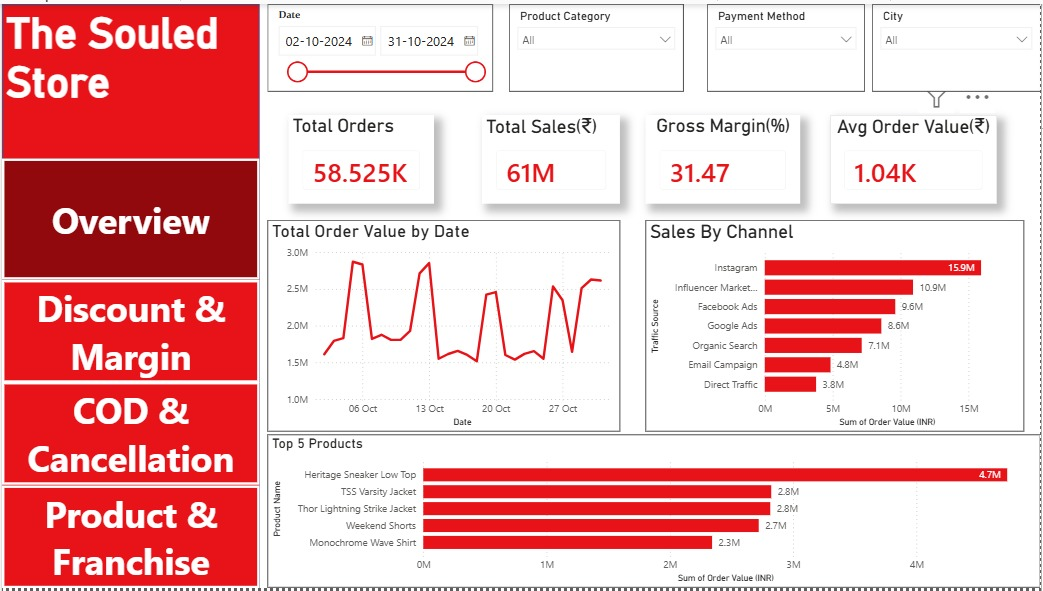

The page's visual inventory and layout, read from the dashboard file:
{"tool":"powerbi","page":{"name":"OverView","canvas":[1280,720],"ordinal":0},"visuals":[{"type":"group","id":"g1","title":"Group 1","box":[0,0,317.5,720],"z":0},{"type":"shape","box":[0,0,317.5,720],"z":0,"group":"g1"},{"type":"slicer","fields":{"Values":["SOULED_STORE.Date"]},"box":[326.9,0,277.8,107.7],"z":1000},{"type":"actionButton","box":[0,593.4,317.5,126.6],"z":1000,"group":"g1"},{"type":"slicer","fields":{"Values":["SOULED_STORE.Product Category"]},"box":[625.5,0,215.4,107.7],"z":2000},{"type":"actionButton","box":[0,466.8,317.5,126.6],"z":2000,"group":"g1"},{"type":"slicer","fields":{"Values":["SOULED_STORE.Payment Method"]},"box":[869.3,0,194.6,107.7],"z":3000},{"type":"actionButton","box":[0,340.2,317.5,126.6],"z":3000,"group":"g1"},{"type":"cardVisual","title":"Total Sales(₹)","fields":{"Data":["Sum(SOULED_STORE.Order Value (INR))"]},"box":[591.5,136.1,170.1,109.6],"z":4000},{"type":"actionButton","box":[0,190.9,317.5,149.3],"z":4000,"group":"g1"},{"type":"textbox","box":[0,0,317.5,213.5],"z":5000,"group":"g1"},{"type":"cardVisual","title":"Total Orders","fields":{"Data":["CountNonNull(SOULED_STORE.Order ID)"]},"box":[353.4,136.1,179.5,109.6],"z":5000},{"type":"cardVisual","title":"Gross Margin(%)","fields":{"Data":["Avg(SOULED_STORE.Estimated Profit Margin (%))"]},"box":[793.7,136.1,190.9,109.6],"z":6000},{"type":"cardVisual","title":"Avg Order Value(₹)","fields":{"Data":["SOULED_STORE.AOV"]},"box":[1020.6,136.8,205.2,109.1],"z":7000},{"type":"lineChart","title":"Total Order Value by Date","fields":{"Y":["Sum(SOULED_STORE.Order Value (INR))"],"Category":["SOULED_STORE.Date"]},"box":[326.9,266.5,434.6,260.8],"z":8000},{"type":"barChart","title":"Sales By Channel","fields":{"Category":["SOULED_STORE.Traffic Source"],"Y":["Sum(SOULED_STORE.Order Value (INR))"]},"box":[793.7,266.5,466.8,260.8],"z":9000},{"type":"clusteredBarChart","title":"Top 5 Products","fields":{"Category":["SOULED_STORE.Product Name"],"Y":["Sum(SOULED_STORE.Order Value (INR))"]},"box":[326.9,531,952.4,189],"z":10000},{"type":"slicer","fields":{"Values":["SOULED_STORE.City"]},"box":[1071.5,0,207.9,107.7],"z":11000}]}

Visuals, with their boxes in screenshot pixels (x1, y1, x2, y2), scaled from the page's 1280x720 canvas onto the 1043x591 screenshot:
"Group 1" group: [x1=0, y1=0, x2=259, y2=590]
shape: [x1=0, y1=0, x2=259, y2=590]
slicer - SOULED_STORE.Date: [x1=266, y1=0, x2=493, y2=88]
actionButton: [x1=0, y1=487, x2=259, y2=590]
slicer - SOULED_STORE.Product Category: [x1=510, y1=0, x2=685, y2=88]
actionButton: [x1=0, y1=383, x2=259, y2=487]
slicer - SOULED_STORE.Payment Method: [x1=708, y1=0, x2=867, y2=88]
actionButton: [x1=0, y1=279, x2=259, y2=383]
"Total Sales(₹)" cardVisual: [x1=482, y1=112, x2=621, y2=202]
actionButton: [x1=0, y1=157, x2=259, y2=279]
textbox: [x1=0, y1=0, x2=259, y2=175]
"Total Orders" cardVisual: [x1=288, y1=112, x2=434, y2=202]
"Gross Margin(%)" cardVisual: [x1=647, y1=112, x2=802, y2=202]
"Avg Order Value(₹)" cardVisual: [x1=832, y1=112, x2=999, y2=202]
"Total Order Value by Date" lineChart: [x1=266, y1=219, x2=621, y2=433]
"Sales By Channel" barChart: [x1=647, y1=219, x2=1027, y2=433]
"Top 5 Products" clusteredBarChart: [x1=266, y1=436, x2=1042, y2=590]
slicer - SOULED_STORE.City: [x1=873, y1=0, x2=1042, y2=88]
